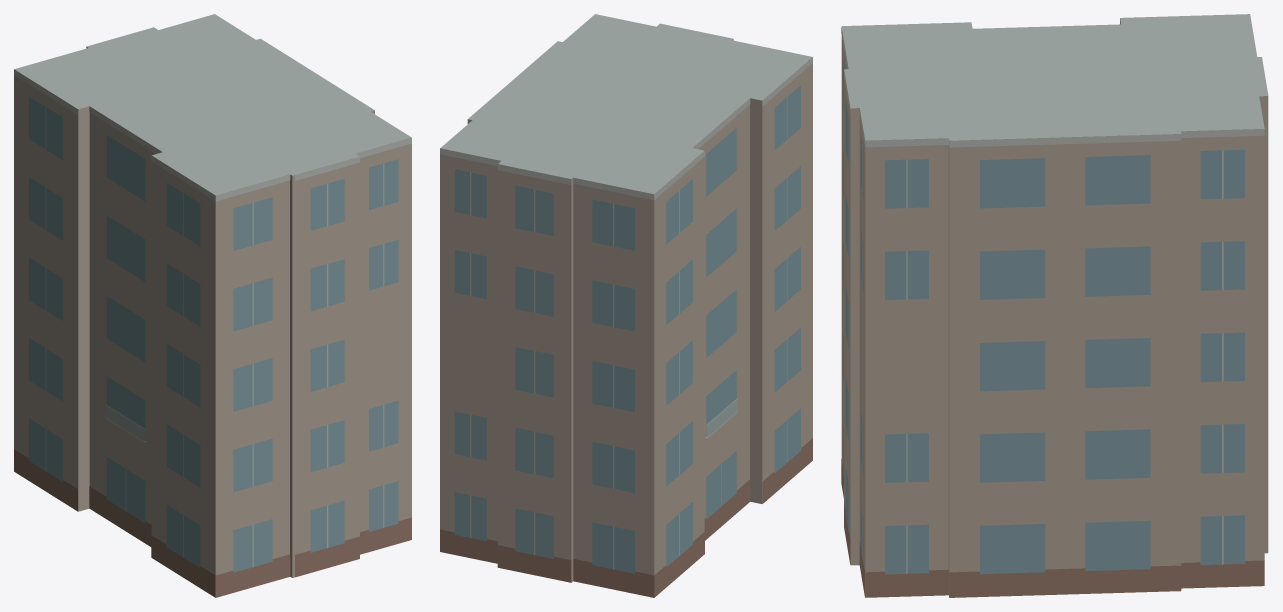
File: survey-upis-32877385.glb
3 views of the same model, side by side, from view 1: azimuth 30°, elevation 25°; view 2: azimuth 150°, elevation 25°; view 3: azimuth 270°, elevation 25° (orthographic). The views are drawn at different scales.
Parts seen in each view (by area): view 1: survey-upis-32877385.tmp; view 2: survey-upis-32877385.tmp; view 3: survey-upis-32877385.tmp.
Part boxes in pixels (x1,y1,x2,y2): survey-upis-32877385.tmp: (14, 14, 411, 597); survey-upis-32877385.tmp: (440, 14, 812, 597); survey-upis-32877385.tmp: (841, 14, 1268, 597).
Bounding box in the file's own units: 9.7 × 16.3 × 13.81.
